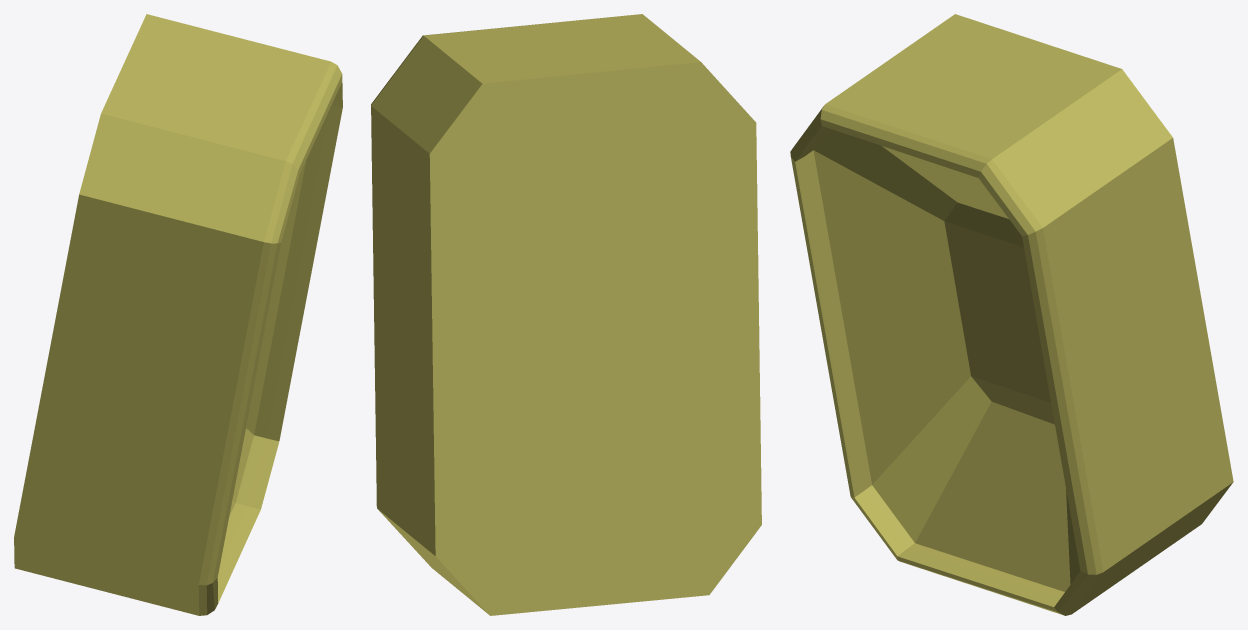
Rendered from TR3_8shapes_Emerald_Classic_Metal.001 3.glb.
3 views of the same model, side by side, from view 1: azimuth 30°, elevation 25°; view 2: azimuth 150°, elevation 25°; view 3: azimuth 270°, elevation 25° (orthographic). The views are drawn at different scales.
Parts seen in each view (by area): view 1: TR3_8shapes_Emerald_Classic_Metal.001; view 2: TR3_8shapes_Emerald_Classic_Metal.001; view 3: TR3_8shapes_Emerald_Classic_Metal.001.
Part boxes in pixels (box(x1,y1,x2,y2)): TR3_8shapes_Emerald_Classic_Metal.001: box(14, 14, 342, 615); TR3_8shapes_Emerald_Classic_Metal.001: box(371, 14, 761, 615); TR3_8shapes_Emerald_Classic_Metal.001: box(790, 14, 1233, 615).
Bounding box in the file's own units: 0.5561 × 0.774 × 0.6003.
